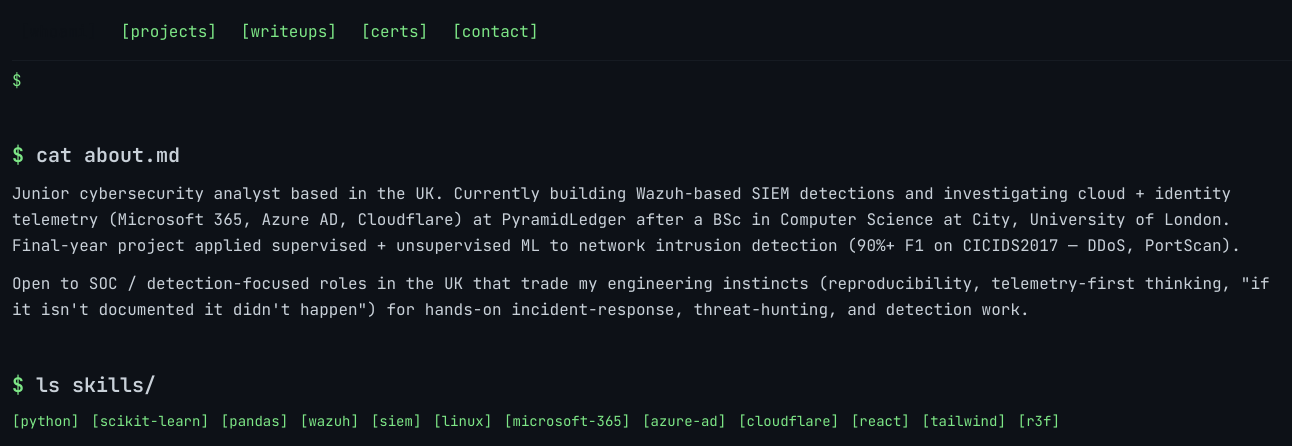
<MonitorTabs /> › clicking a different tab switches the panel and shifts aria-pressed
Click the button with aria-label "show projects tab" at (169, 32), box left=109, top=12, right=229, bottom=52
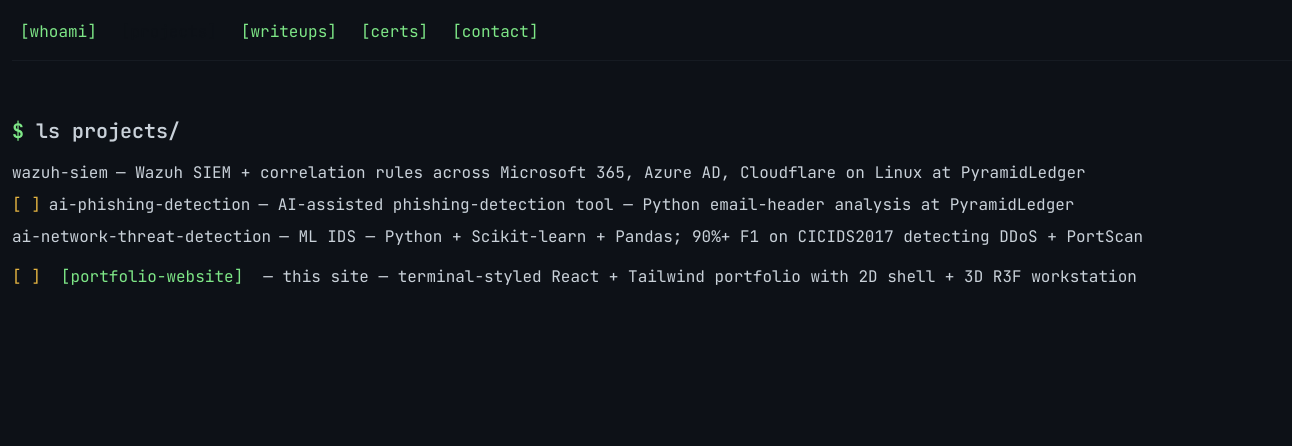
Result: the element named "projects content" is shown at left=12, top=69, right=1291, bottom=301
